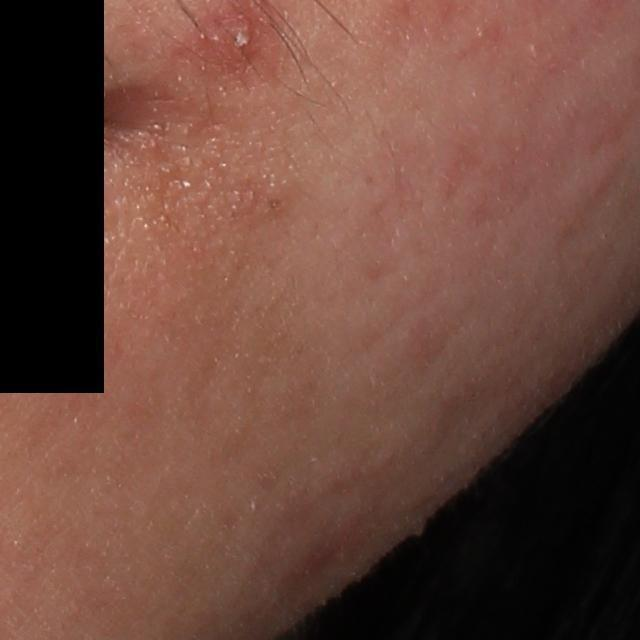comedo: (262, 194, 291, 218)
